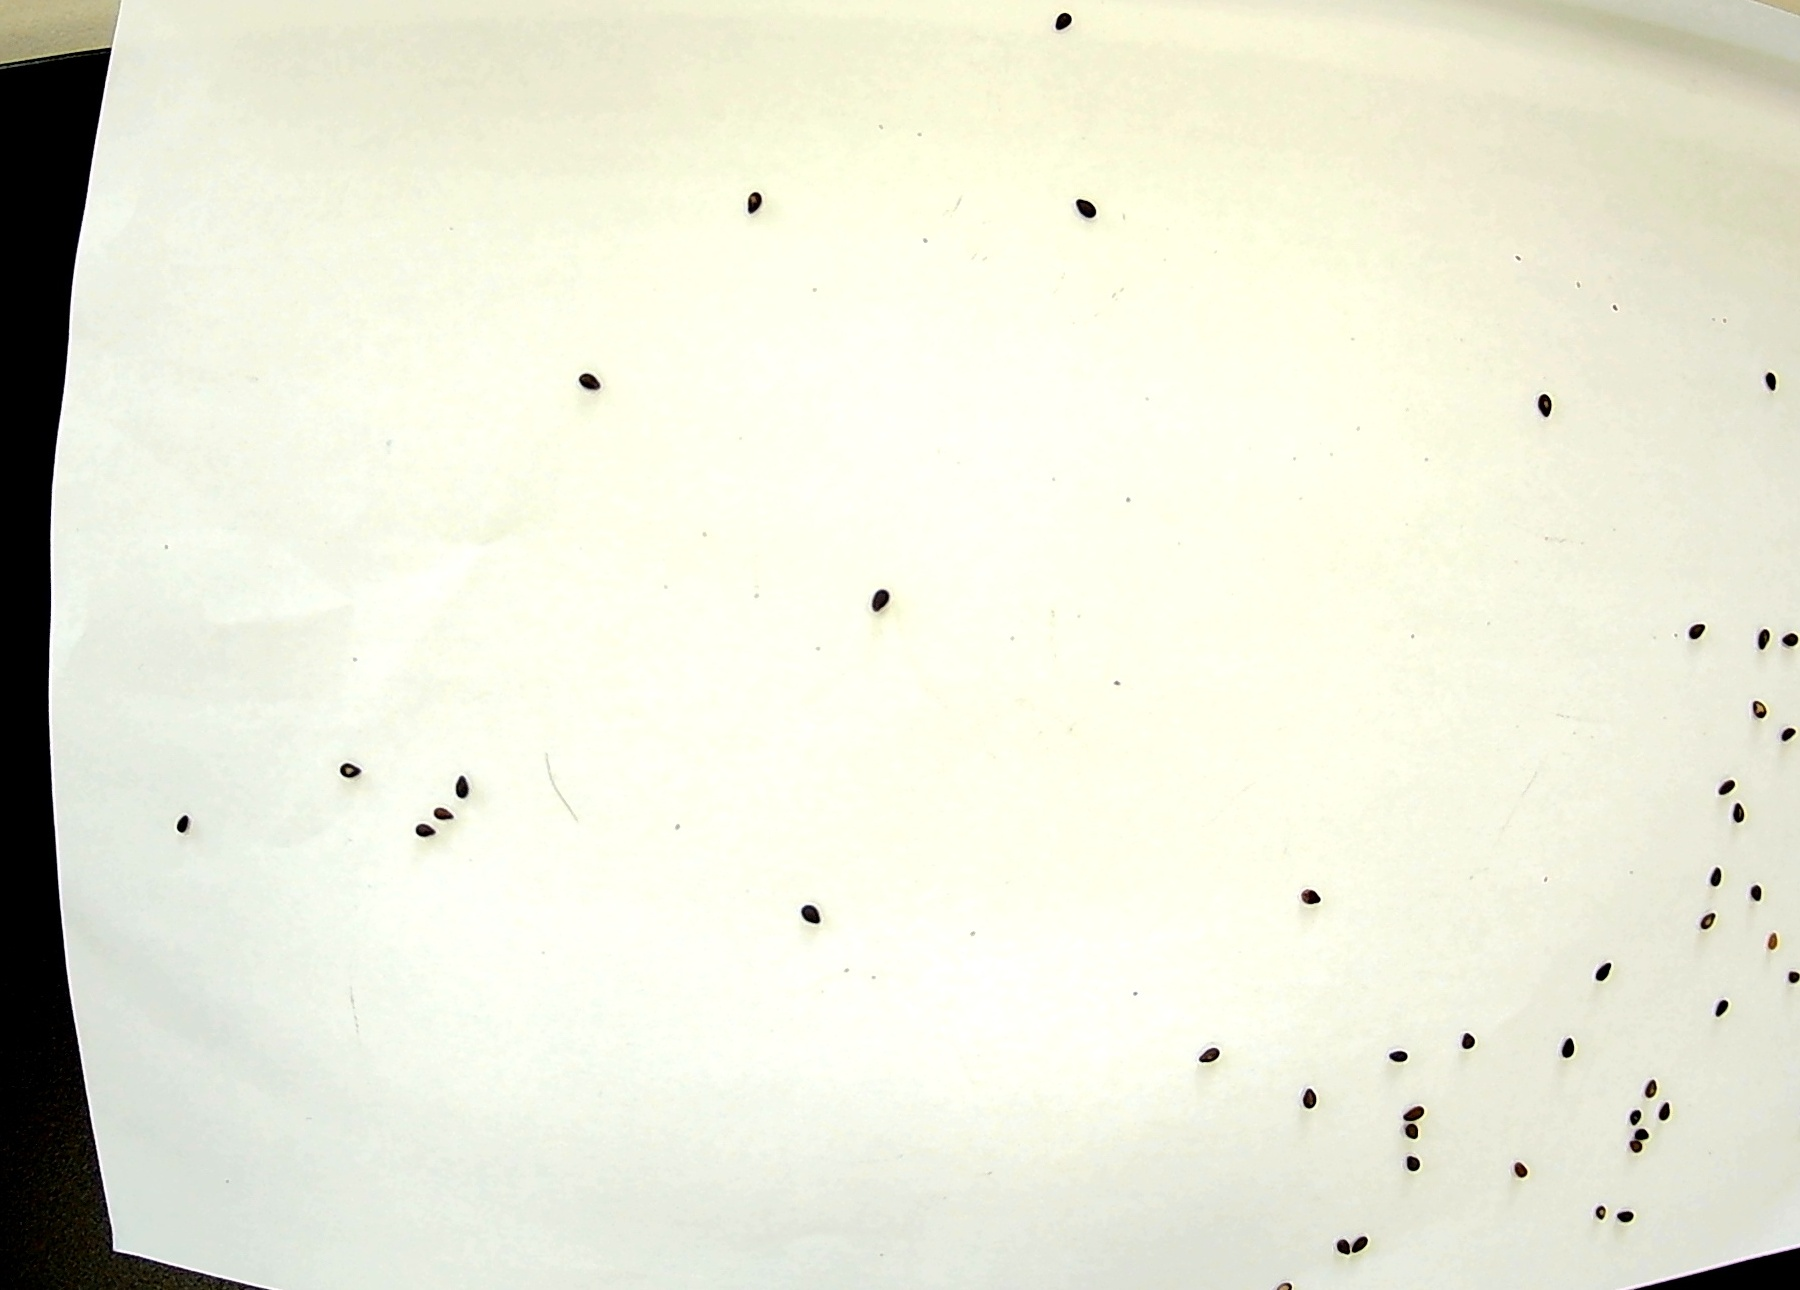sesami: (573, 352, 604, 402), (1065, 173, 1095, 223), (1527, 371, 1557, 422), (1769, 606, 1800, 656), (1769, 701, 1800, 751), (1711, 746, 1741, 796), (1746, 874, 1776, 924), (1761, 903, 1792, 954), (1769, 958, 1800, 1008), (1688, 895, 1719, 945), (1702, 843, 1733, 894), (1637, 1058, 1667, 1109), (1653, 1085, 1684, 1135), (1614, 1078, 1645, 1128), (1494, 1139, 1525, 1189), (1747, 618, 1778, 667), (738, 187, 767, 237), (1762, 345, 1792, 395), (1746, 676, 1775, 726), (1726, 780, 1755, 831), (1705, 973, 1734, 1023), (1603, 1187, 1633, 1237), (1585, 1185, 1614, 1236), (1599, 951, 1628, 1001), (1446, 1012, 1475, 1062), (865, 570, 894, 618), (1047, 1, 1076, 50), (1677, 598, 1707, 646), (1561, 1028, 1591, 1076), (1400, 1118, 1432, 1155), (800, 903, 832, 940), (407, 815, 440, 852), (1384, 1037, 1415, 1074), (1397, 1083, 1427, 1120), (1401, 1142, 1432, 1178), (1351, 1217, 1381, 1254), (1324, 1217, 1355, 1254), (1295, 1078, 1326, 1114), (1197, 1035, 1228, 1071), (1291, 885, 1321, 921), (445, 769, 476, 806), (332, 752, 363, 789), (162, 806, 193, 842), (427, 785, 458, 820), (1621, 1135, 1656, 1152), (1624, 1125, 1658, 1142)
